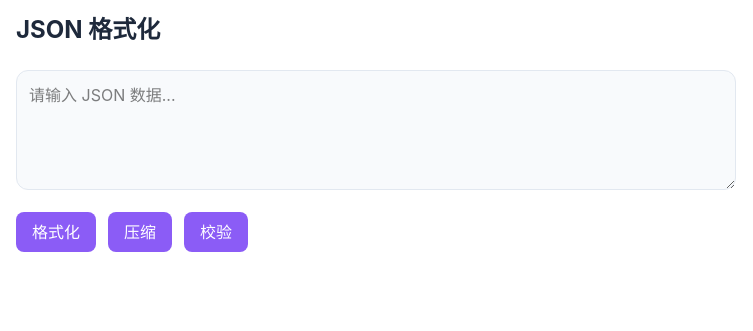
JsonFormatterPage › 空输入显示提示
Click the button "格式化" at [56, 232], box [16, 212, 96, 252]
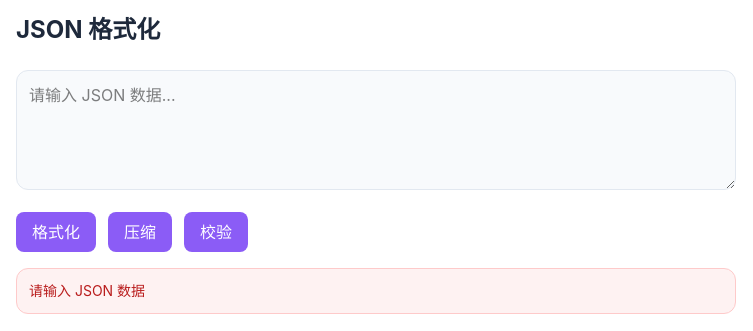
Expected: the text "请输入 JSON 数据" is shown, [16, 268, 736, 314]
